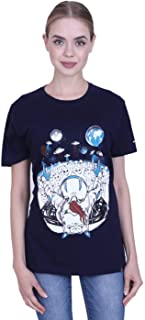tshirt: (1, 80, 137, 277)
